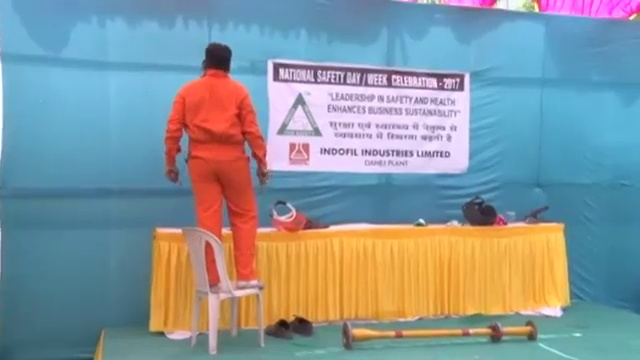helmet_off: (200, 40, 233, 74)
person: (163, 37, 270, 294)
